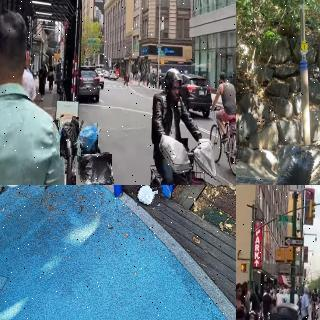Garbage: (273, 142, 320, 185), (75, 152, 113, 185), (59, 117, 80, 158), (75, 122, 100, 151), (135, 185, 161, 207)
